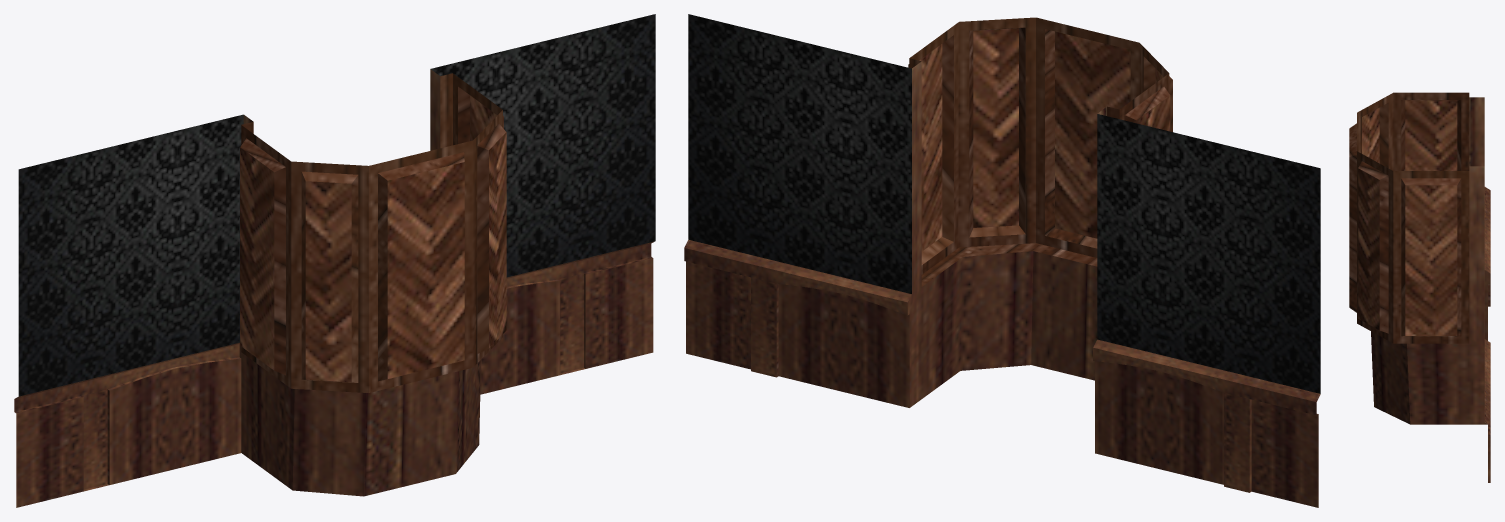
File: NookWall2Wide.fbx
3 views of the same model, side by side, from view 1: azimuth 30°, elevation 25°; view 2: azimuth 150°, elevation 25°; view 3: azimuth 270°, elevation 25° (orthographic). The views are drawn at different scales.
Visible parts, largest first — view 1: Cube.008; view 2: Cube.008; view 3: Cube.008.
Part boxes in pixels (x1,y1,x2,y2): Cube.008: [14, 14, 655, 507]; Cube.008: [684, 14, 1320, 507]; Cube.008: [1349, 92, 1490, 482].
Bounding box in the file's own units: 727 × 371 × 184.
Materials: 1 (1 with a texture image).
